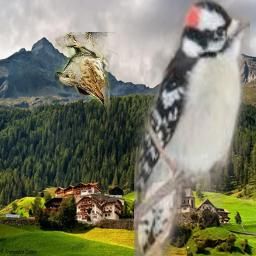Sparrow: (55, 32, 118, 131)
Woodpecker: (134, 0, 250, 256)
